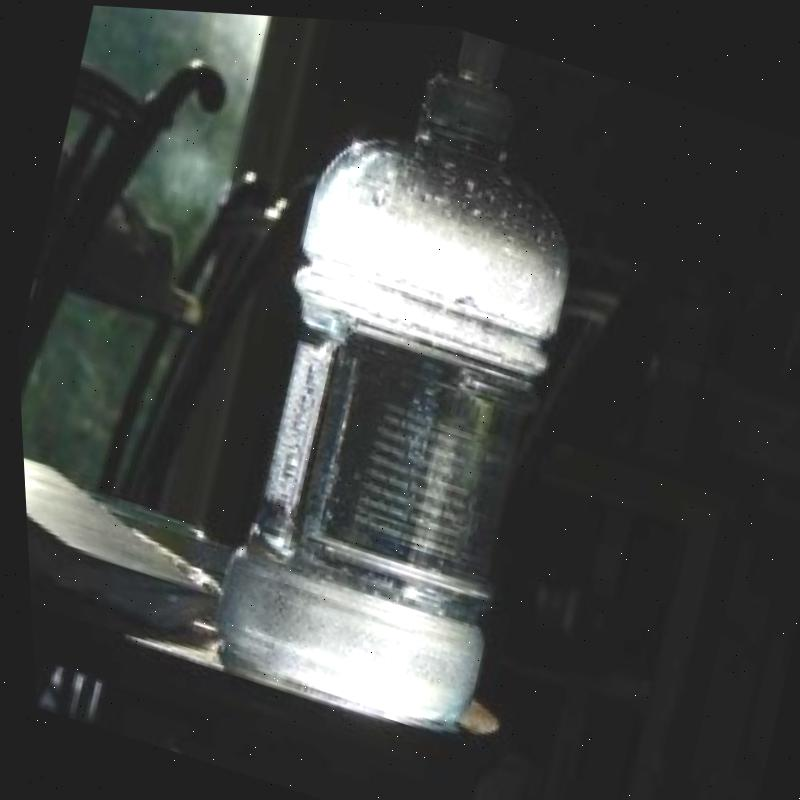botella: (176, 15, 642, 757)
